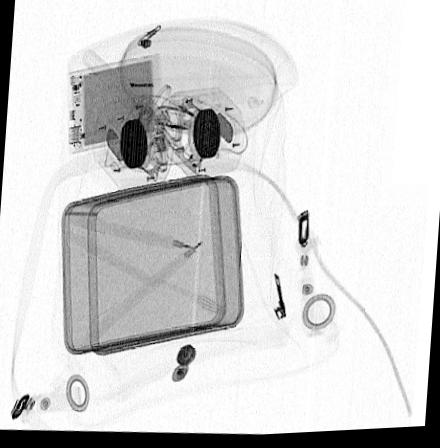Powerbank: (65, 54, 163, 156)
